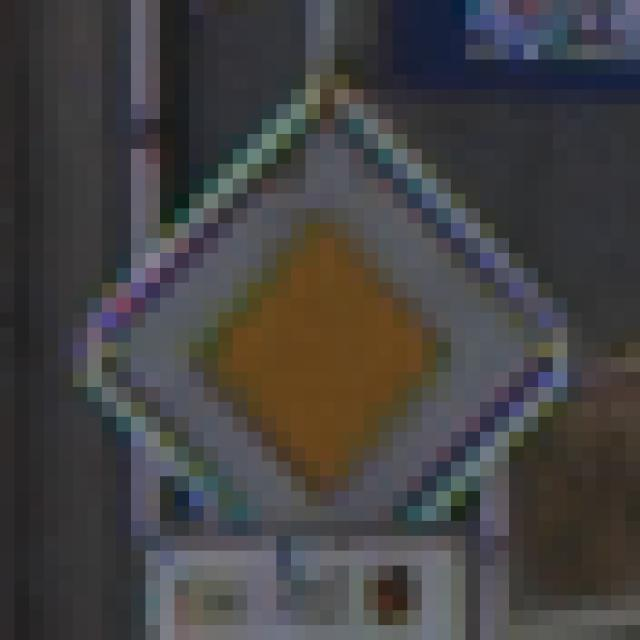Main Road: (74, 90, 568, 552)
